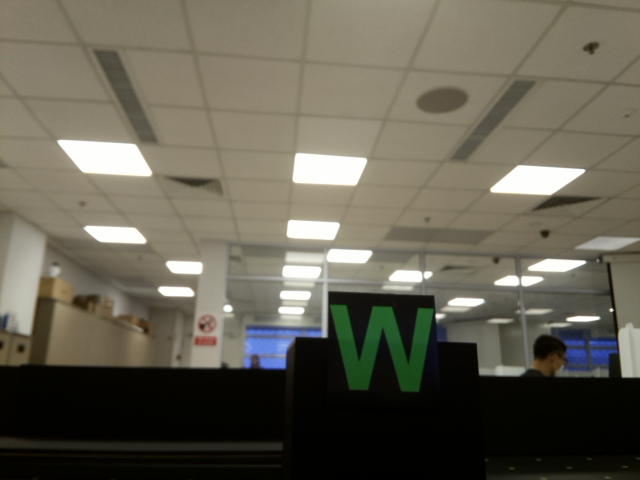w: (331, 298, 444, 390)
